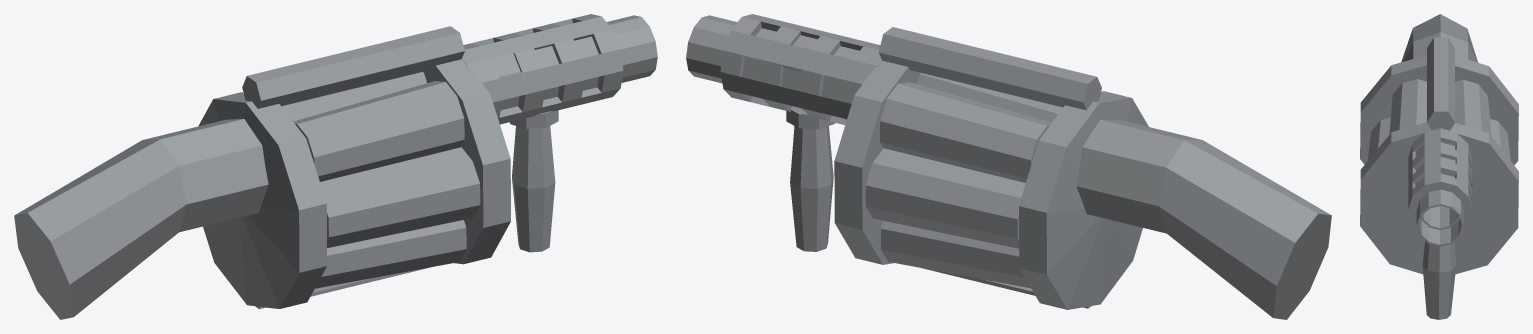
The model's file is shoka.obj.
3 renders of one model, left to right at view 1: azimuth 30°, elevation 25°; view 2: azimuth 150°, elevation 25°; view 3: azimuth 270°, elevation 25°, orthographic. The views are drawn at different scales.
Parts seen in each view (by area): view 1: shoka:name11; view 2: shoka:name11; view 3: shoka:name11.
Boxes of the visible parts, x1,y1,x2,y2 form: shoka:name11: (14, 14, 657, 319); shoka:name11: (686, 14, 1331, 319); shoka:name11: (1360, 14, 1518, 319).
Bounding box in the file's own units: 2.18 × 0.7958 × 0.653.
1 material, 1 textured.
